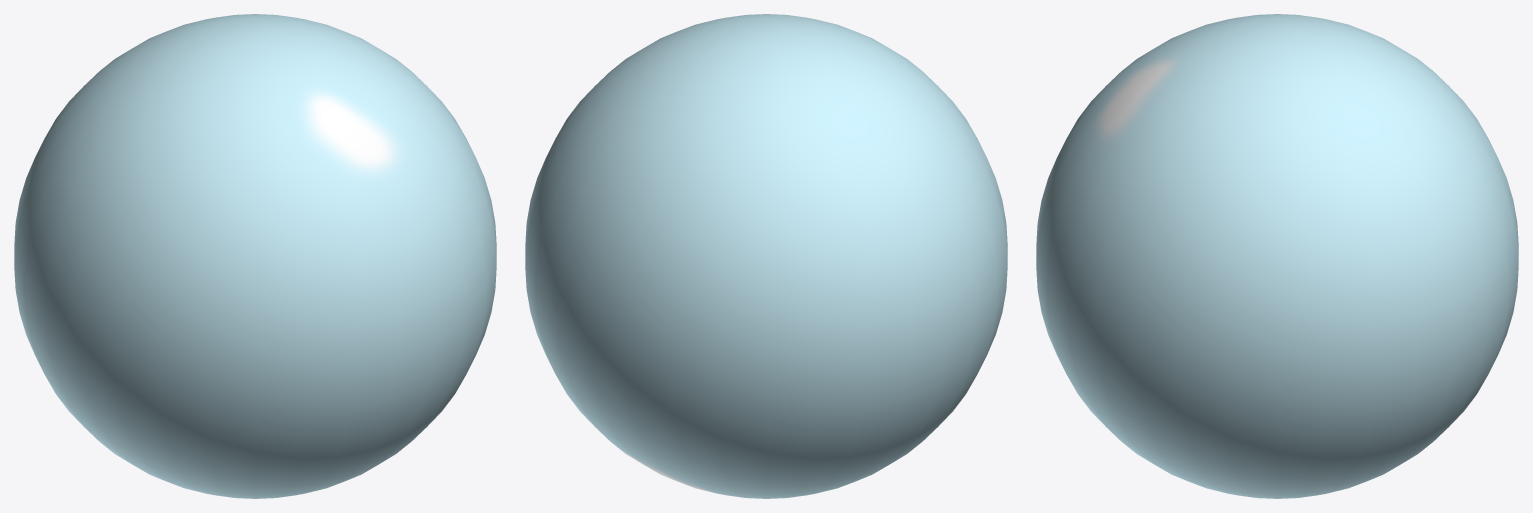
The model's file is Glass2.fbx.
3 views of the same model, side by side, from view 1: azimuth 30°, elevation 25°; view 2: azimuth 150°, elevation 25°; view 3: azimuth 270°, elevation 25° (orthographic).
Parts seen in each view (by area): view 1: pSphere7; view 2: pSphere7; view 3: pSphere7.
Part boxes in pixels (x1,y1,x2,y2): pSphere7: (14,14,496,498); pSphere7: (525,14,1007,498); pSphere7: (1036,14,1518,498).
Size of the model in its own units: 2.4 by 2.4 by 2.39.
Materials: 1 (1 with a texture image).
